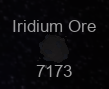Iridium: (13, 19, 97, 79)
